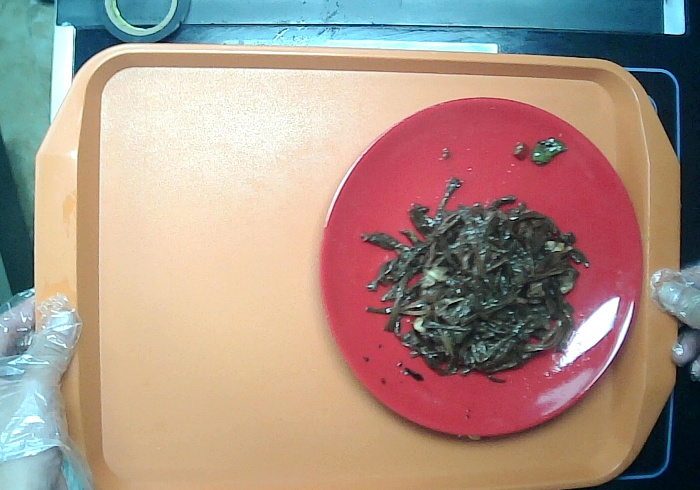HZYJPL-Hong_Se_Yuan_Pan: (306, 89, 660, 447)
